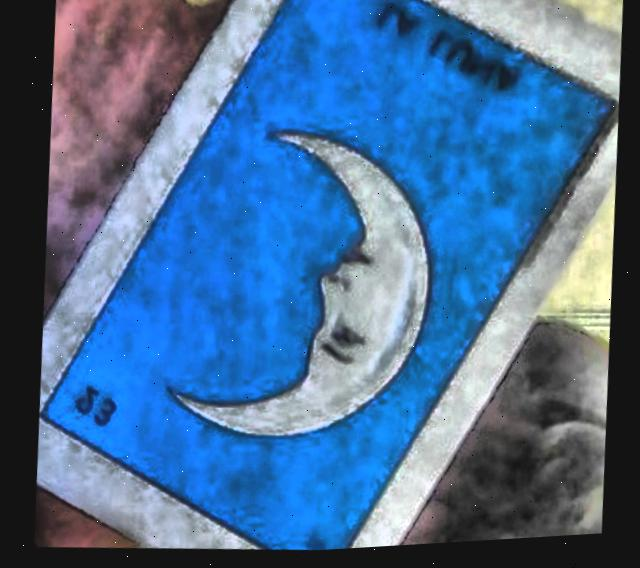La Luna: (40, 0, 614, 554)
